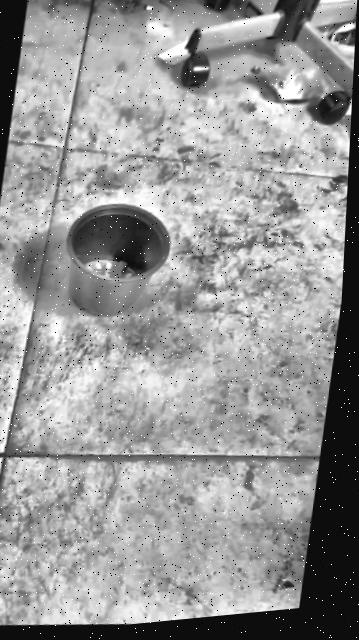pot: (55, 194, 175, 325)
